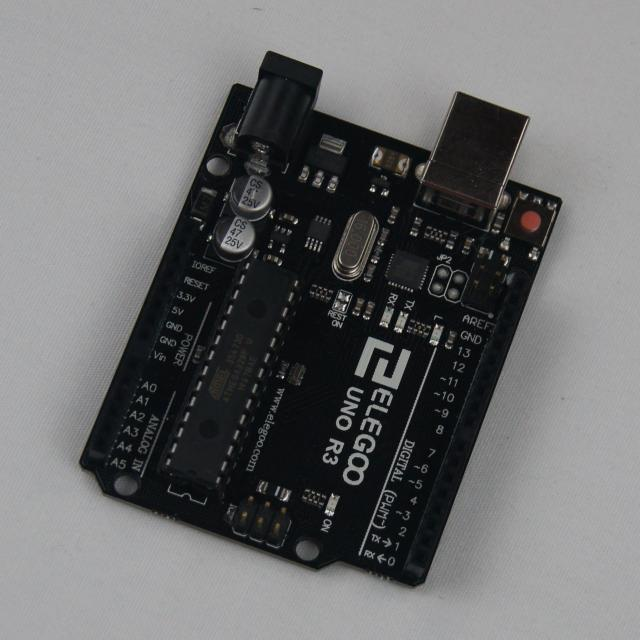Arduino Uno -Black-: (81, 53, 561, 587)
